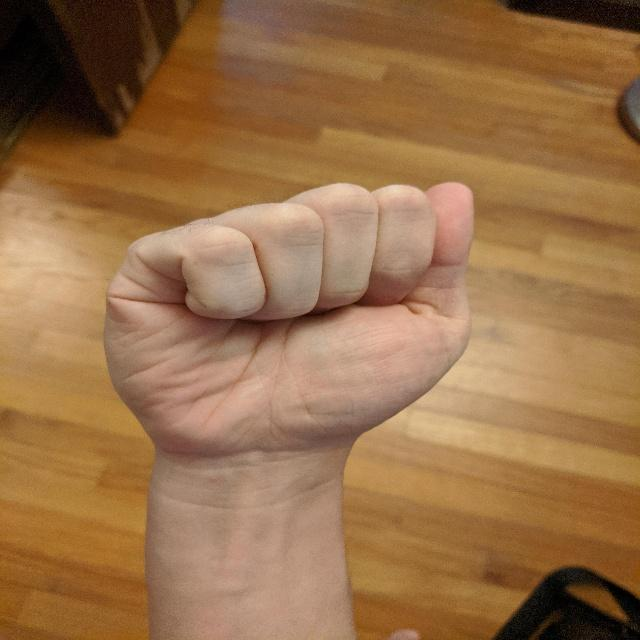A: (92, 173, 381, 462)
